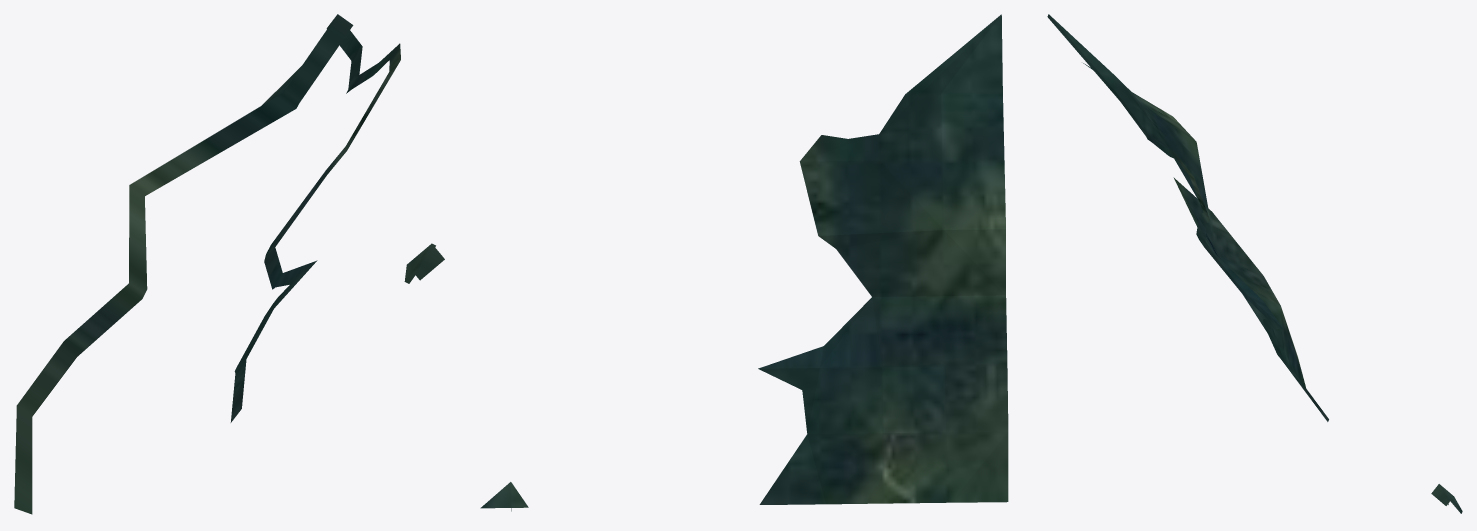
3 renders of one model, left to right at view 1: azimuth 30°, elevation 25°; view 2: azimuth 150°, elevation 25°; view 3: azimuth 270°, elevation 25°, orthographic. The views are drawn at different scales.
Bounding box in the file's own units: 1056 × 1004 × 1035.
1 material, 1 textured.
